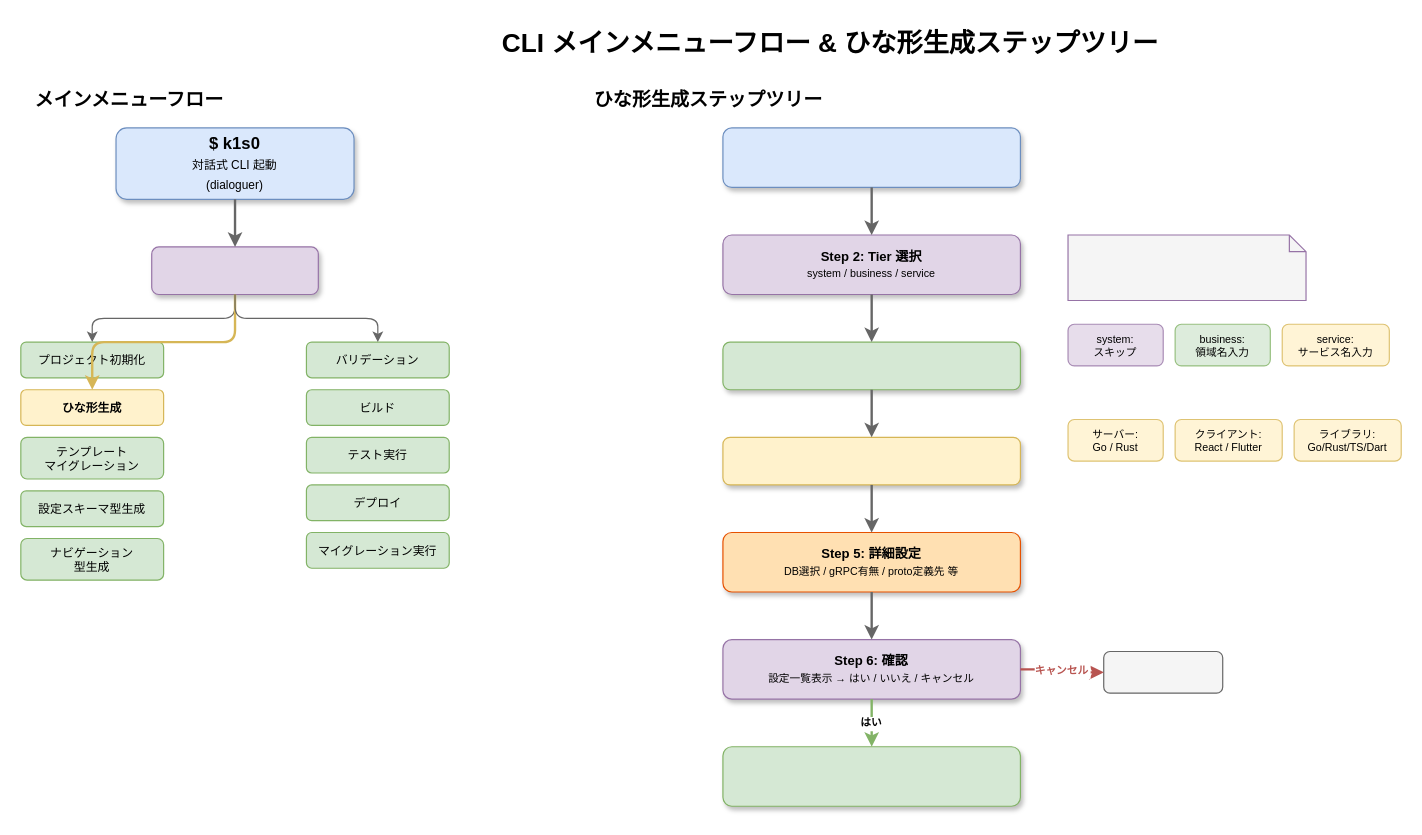
This 1422x835 diagram has some shape labels left out. Here are the shapes that lost their labels. From the top down, the centre of each, then its label:
At pixel 872 159: "Step 1: 種別選択 サーバー / クライアント / ライブラリ / DB".
At pixel 235 272: "メインメニュー".
At pixel 1186 267: "Tier 選択制限 クライアント: business/service のみ ライブラリ: system/business のみ".
At pixel 872 367: "Step 3: 配置先指定".
At pixel 872 462: "Step 4: 言語 / FW 選択".
At pixel 1163 671: "メインメニュー に戻る".
At pixel 872 778: "コード生成 テンプレートからひな形を出力 sparse-checkout 対応".
